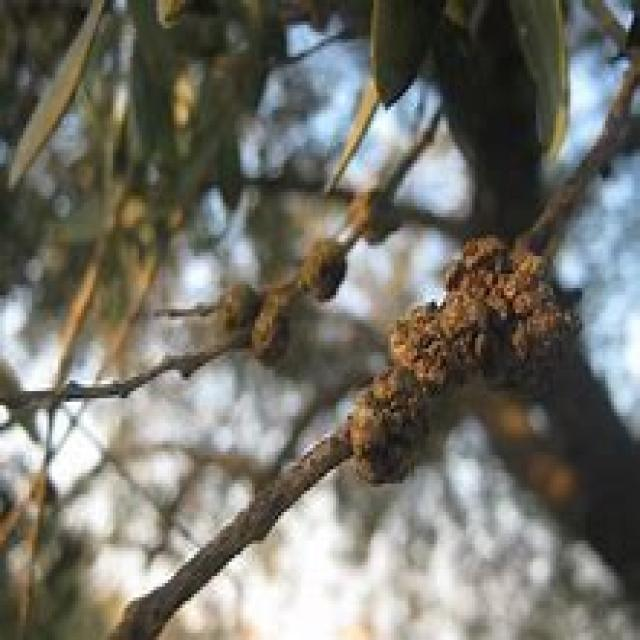Tuberculosis: (344, 238, 576, 480), (214, 280, 290, 362), (351, 182, 396, 242), (302, 238, 344, 298)
